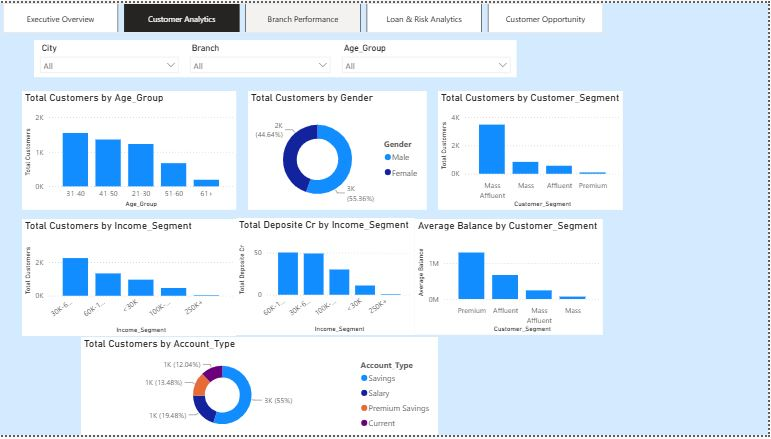

The page's visual inventory and layout, read from the dashboard file:
{"tool":"powerbi","page":{"name":"Customer Analytics","canvas":[1280,720],"ordinal":1},"visuals":[{"type":"clusteredColumnChart","fields":{"Category":["Customers.Age_Group"],"Y":["Customers.Total Customers"]},"box":[36.7,146.7,356.6,198],"z":0},{"type":"clusteredColumnChart","fields":{"Category":["Customers.Income_Segment"],"Y":["Customers.Total Customers"]},"box":[36.7,360,356.6,194.9],"z":1000},{"type":"donutChart","fields":{"Category":["Customers.Gender"],"Y":["Customers.Total Customers"]},"box":[413.3,146.7,297.7,198],"z":2000},{"type":"clusteredColumnChart","fields":{"Category":["Customers.Income_Segment"],"Y":["Customers.Total Deposite Cr"]},"box":[393.3,358.3,297.7,194.9],"z":3000},{"type":"columnChart","fields":{"Category":["Customers.Customer_Segment"],"Y":["Customers.Total Customers"]},"box":[730,146.7,308.3,198],"z":4000},{"type":"clusteredColumnChart","fields":{"Category":["Customers.Customer_Segment"],"Y":["Customers.Average Balance"]},"box":[691.7,360,313.3,193.3],"z":5000},{"type":"donutChart","fields":{"Category":["Customers.Account_Type"],"Y":["Customers.Total Customers"]},"box":[135,556.7,595,163.3],"z":6000},{"type":"slicer","fields":{"Values":["Customers.City"]},"box":[56.7,61.7,250.9,62],"z":7000},{"type":"slicer","fields":{"Values":["Customers.Branch"]},"box":[306.7,61.7,253.9,62],"z":8000},{"type":"slicer","fields":{"Values":["Customers.Age_Group"]},"box":[560,61.7,300.7,62],"z":9000},{"type":"pageNavigator","box":[5,0,1000,50],"z":9001}]}

Visuals, with their boxes in screenshot pixels (x1, y1, x2, y2), scaled from the page's 1280x720 canvas onto the 771x439 screenshot:
clusteredColumnChart - Customers.Age_Group x Customers.Total Customers: BBox(22, 89, 237, 210)
clusteredColumnChart - Customers.Income_Segment x Customers.Total Customers: BBox(22, 220, 237, 338)
donutChart - Customers.Gender x Customers.Total Customers: BBox(249, 89, 428, 210)
clusteredColumnChart - Customers.Income_Segment x Customers.Total Deposite Cr: BBox(237, 218, 416, 337)
columnChart - Customers.Customer_Segment x Customers.Total Customers: BBox(440, 89, 625, 210)
clusteredColumnChart - Customers.Customer_Segment x Customers.Average Balance: BBox(417, 220, 605, 337)
donutChart - Customers.Account_Type x Customers.Total Customers: BBox(81, 339, 440, 438)
slicer - Customers.City: BBox(34, 38, 185, 75)
slicer - Customers.Branch: BBox(185, 38, 338, 75)
slicer - Customers.Age_Group: BBox(337, 38, 518, 75)
pageNavigator: BBox(3, 0, 605, 30)
